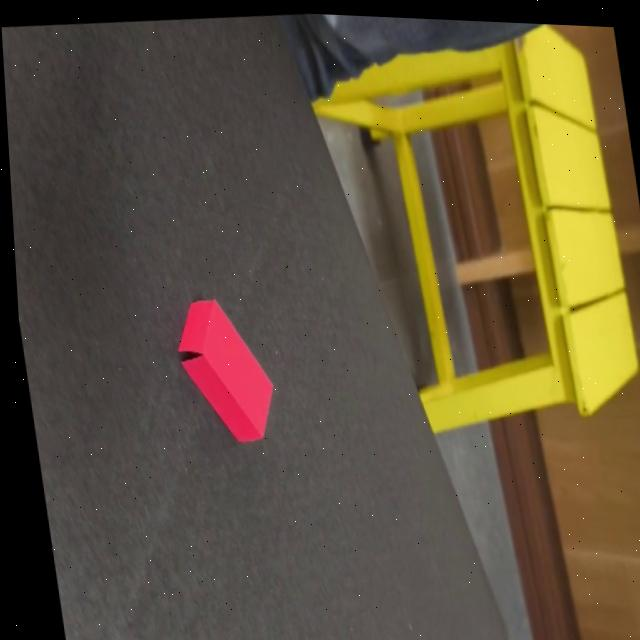red block: (168, 289, 282, 449)
